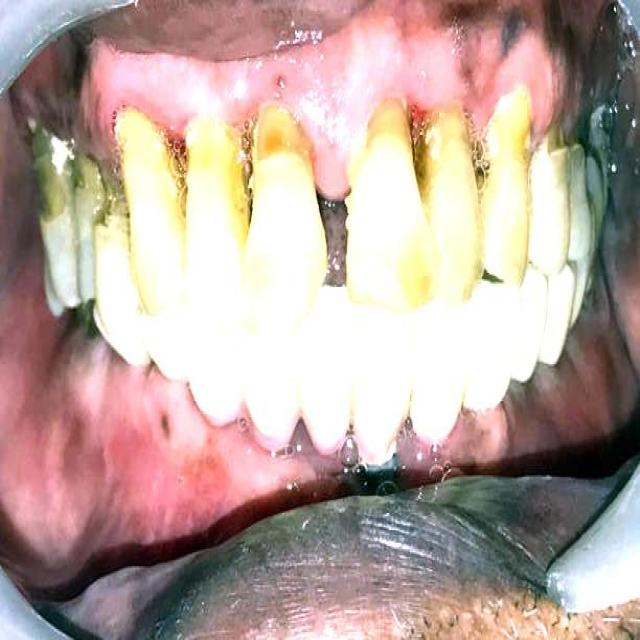caries: (248, 94, 318, 184), (346, 84, 418, 164), (22, 128, 71, 237), (538, 102, 580, 180), (71, 144, 111, 224)
